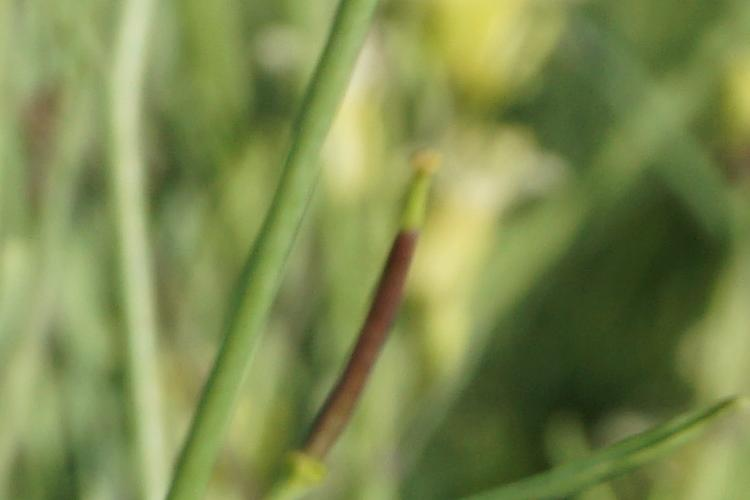pod: (297, 132, 444, 480)
